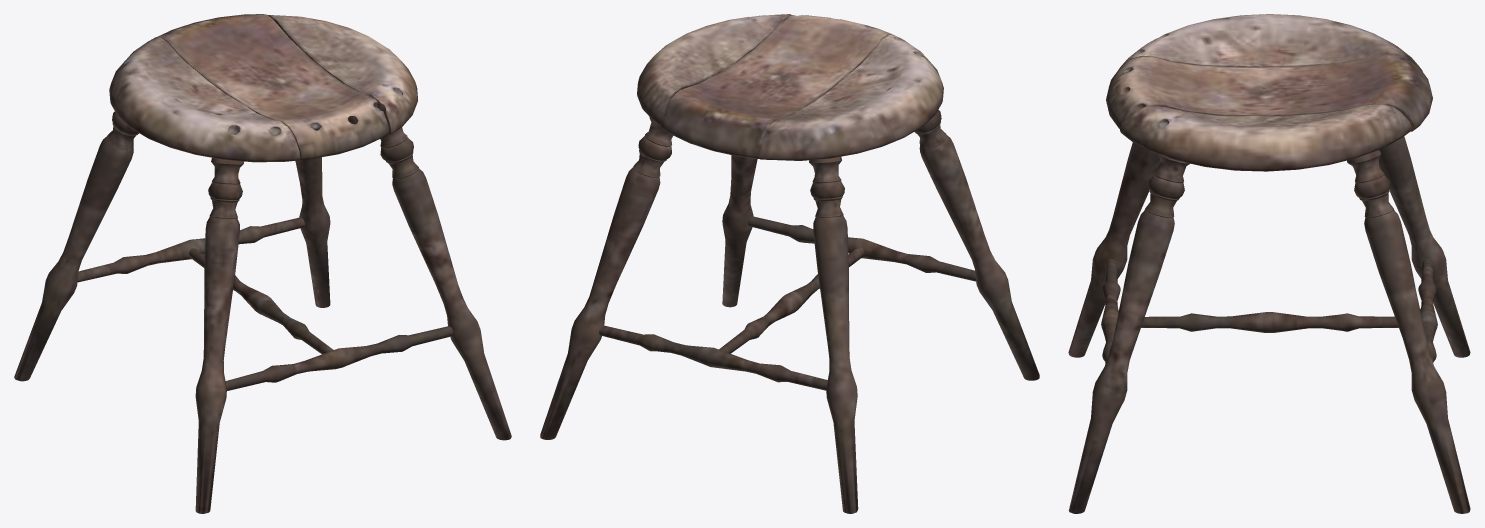
File: stool-wooden-01.lite.1ce37a13.glb
The picture shows the model from 3 angles, left to right: view 1: azimuth 30°, elevation 25°; view 2: azimuth 150°, elevation 25°; view 3: azimuth 270°, elevation 25°; orthographic projection. The views are drawn at different scales.
Visible parts, largest first — view 1: model; view 2: model; view 3: model.
Boxes of the visible parts, x1,y1,x2,y2 form: model: [14, 14, 511, 513]; model: [540, 14, 1039, 513]; model: [1068, 14, 1470, 513].
Size of the model in its own units: 0.4246 by 0.4373 by 0.4424.
1 material, 1 textured.
